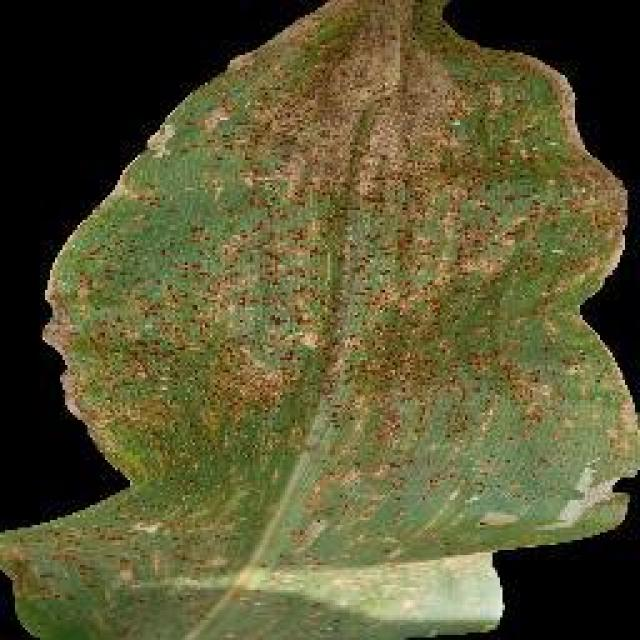Corn Common Rust: (188, 53, 587, 565)
